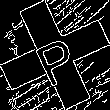P_NW: (28, 24, 82, 86)
